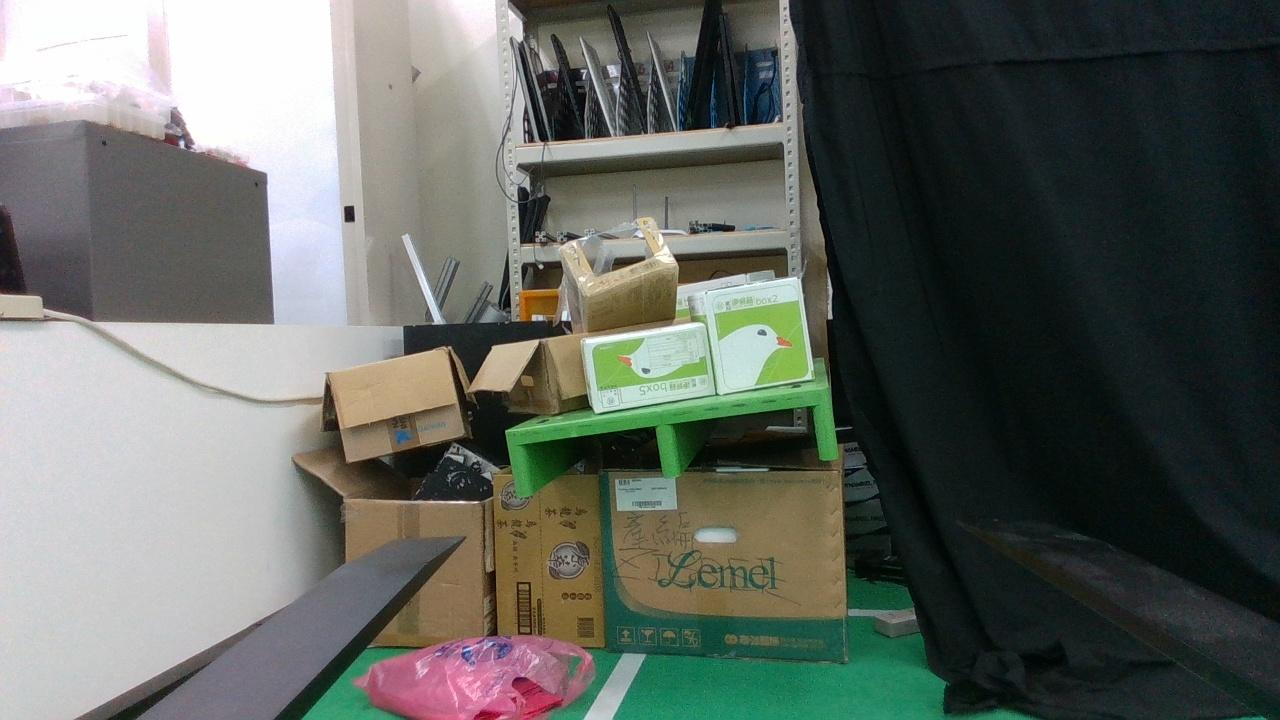Pallet: (508, 387, 840, 500)
